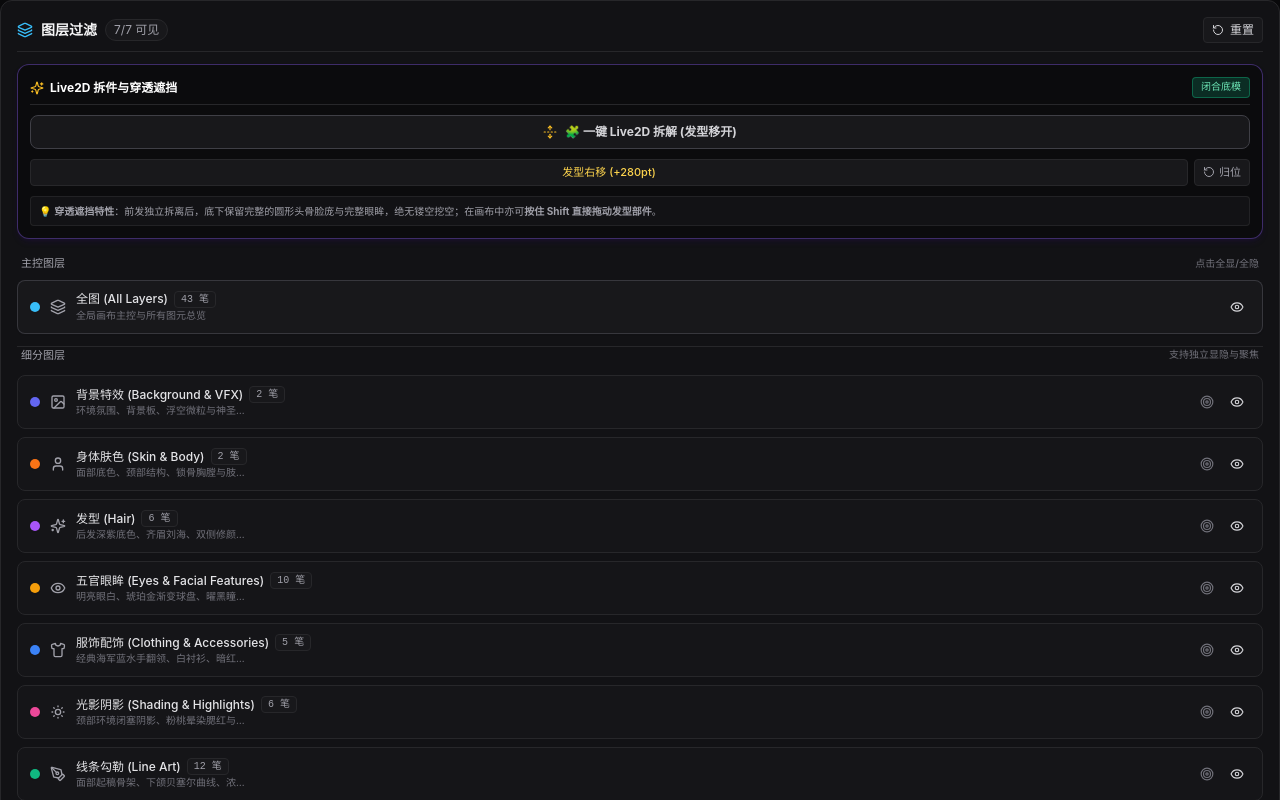
Scenario: Standard 7-Layer Anime Illustration Architecture Tests › 6. LayerFilterPanel UI Interactions › toggling multiple layers updates the visible counter badge sequentially
Expected: the text "7/7 可见" is shown, [105,19,168,41]
Click the button with test id "visibility-toggle-background" at (1237, 402), box [1224,389,1250,415]
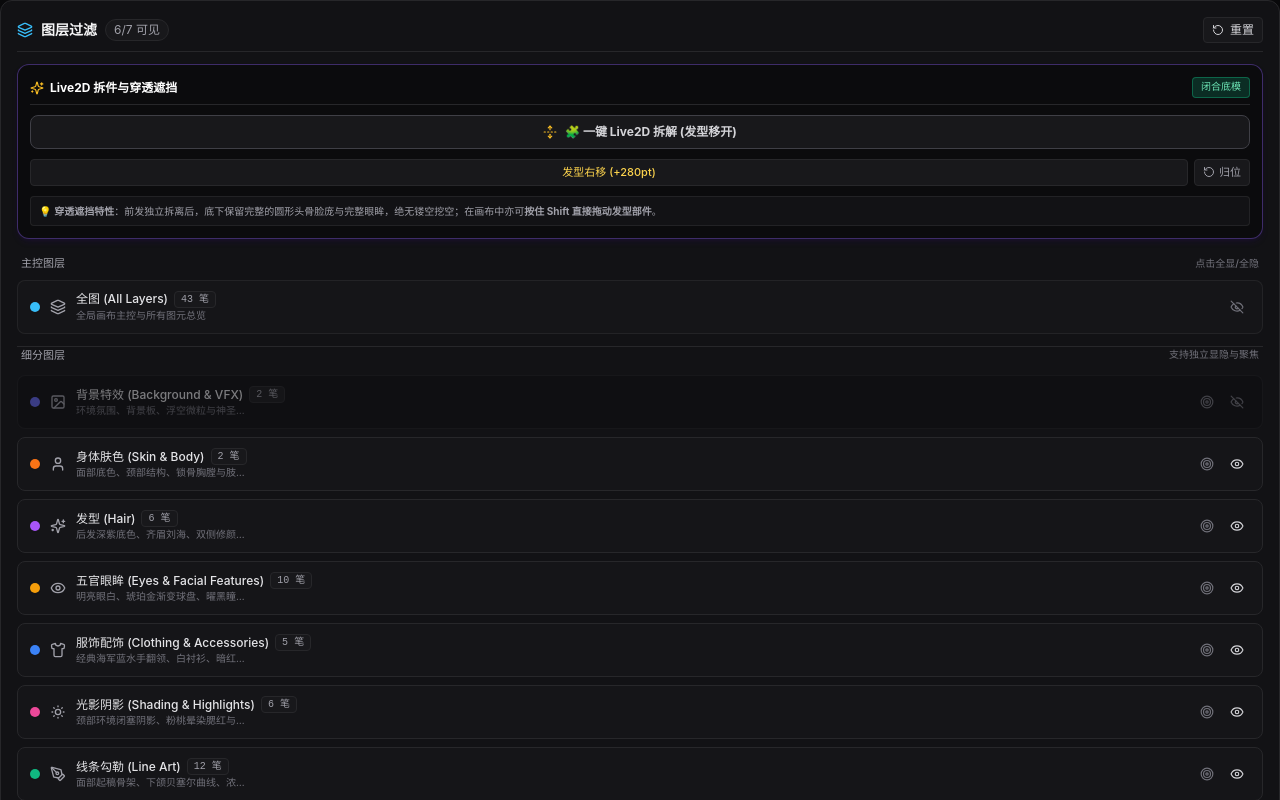
Expected: the text "6/7 可见" is shown, [105,19,169,41]
Click the button with test id "visibility-toggle-skin_body" at (1237, 464), box [1224,451,1250,477]
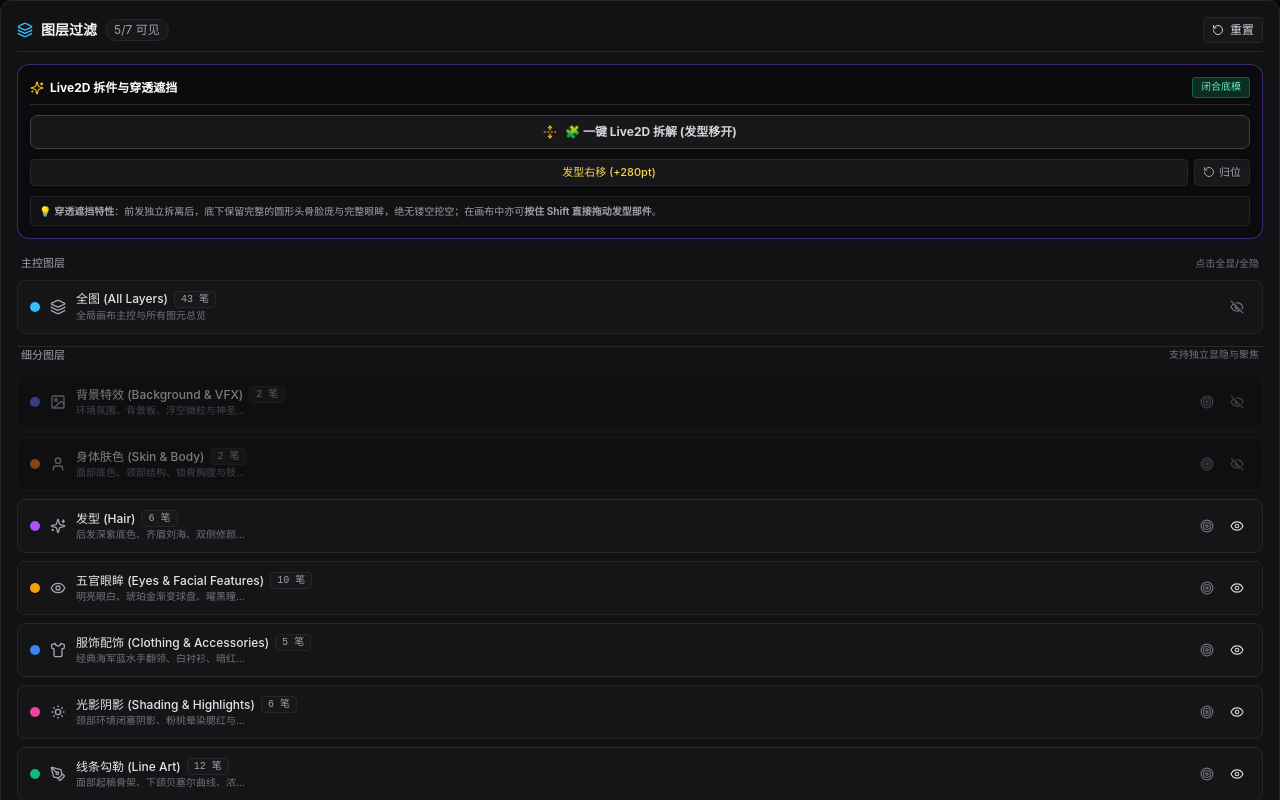
Expected: the text "5/7 可见" is shown, [105,19,169,41]
# Reset button restores all
Click the button with test id "reset-layers-button" at (1233, 30), box [1203,17,1263,43]
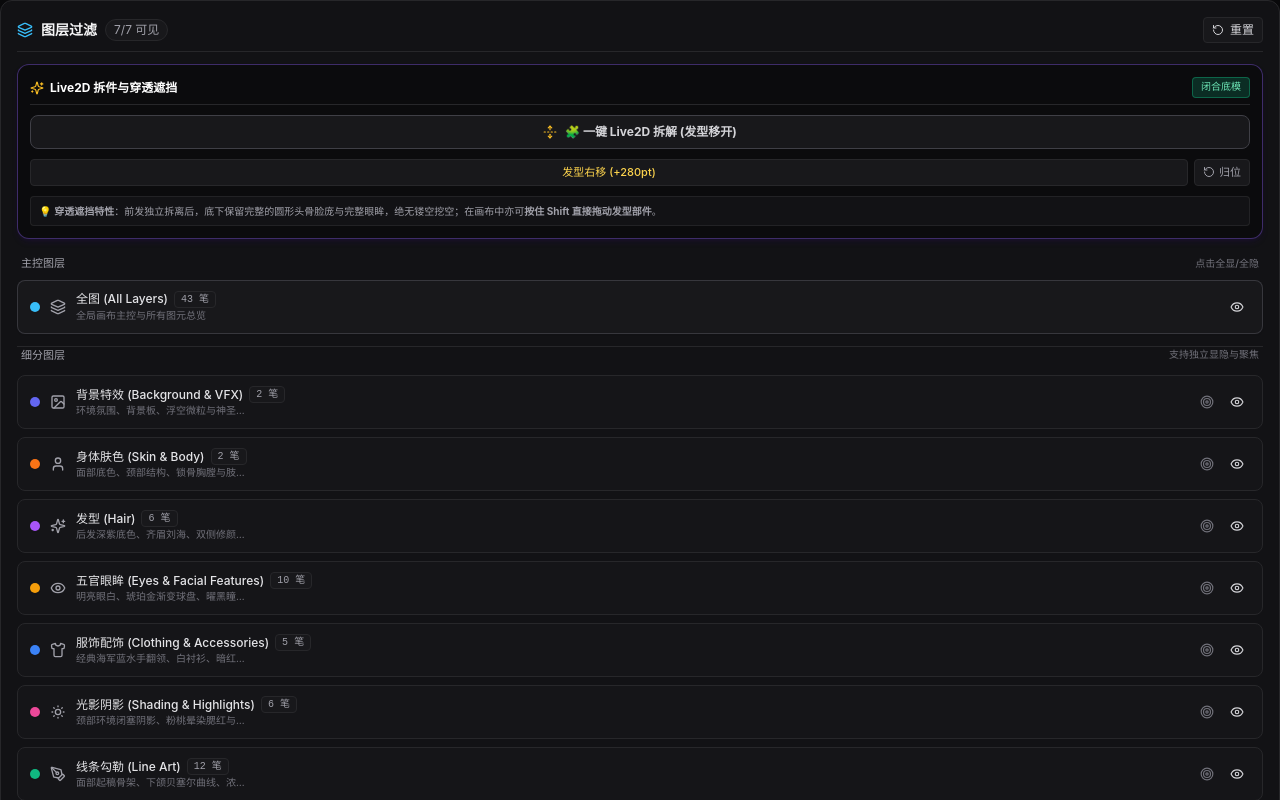
Expected: the text "7/7 可见" is shown, [105,19,168,41]
